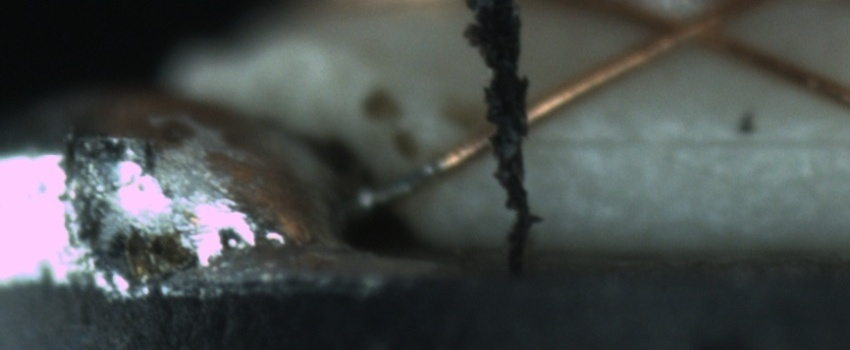CL: (631, 3, 760, 61)
DL: (539, 107, 849, 179)
TS: (357, 159, 445, 214)
